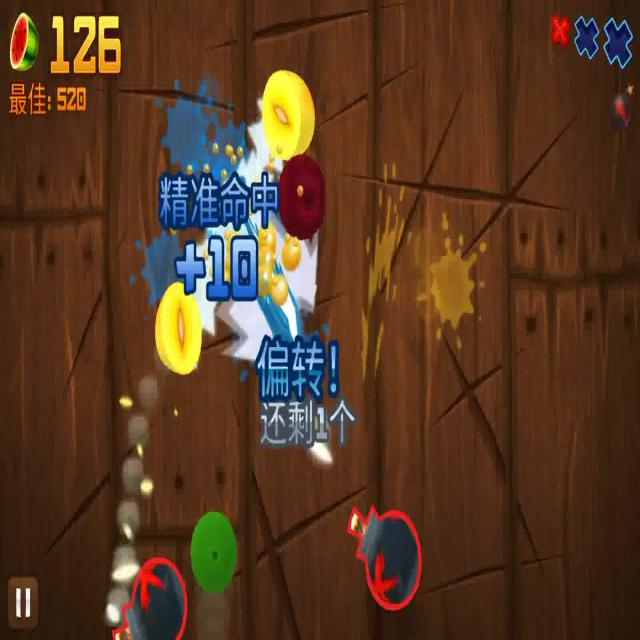bomb: (337, 484, 425, 620), (109, 555, 192, 640)
fruit: (148, 270, 208, 374), (258, 74, 317, 162), (276, 156, 333, 242), (189, 500, 237, 597)
